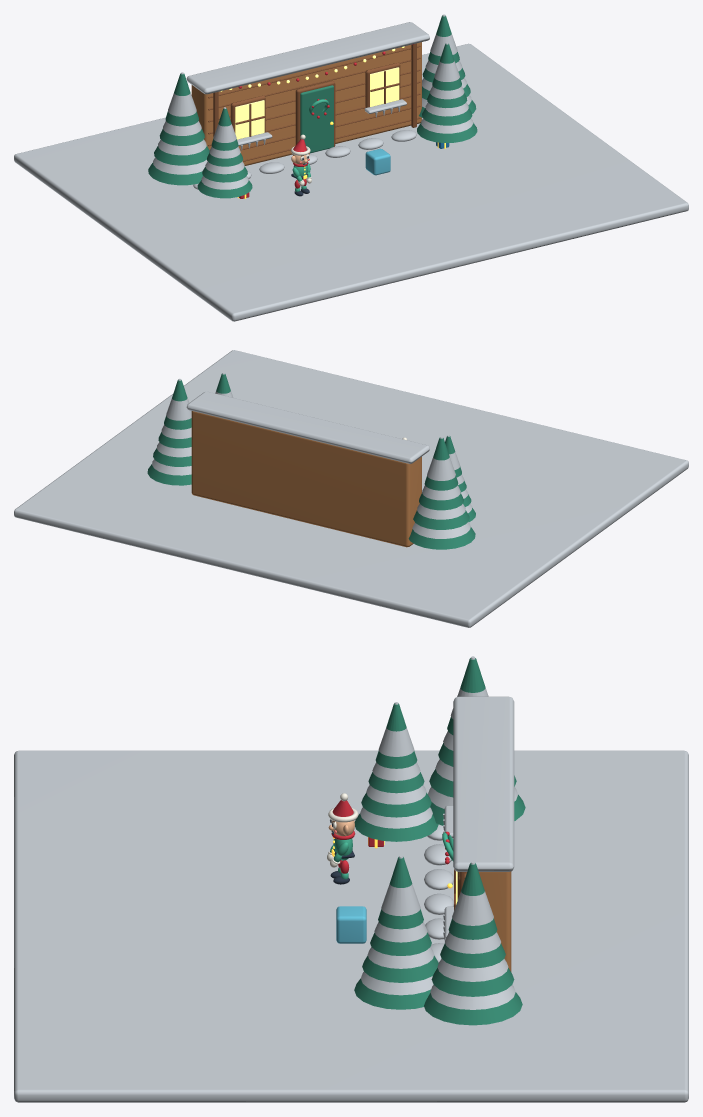
File: chapter-19.glb
3 views of the same model, one above another, from view 1: azimuth 30°, elevation 25°; view 2: azimuth 150°, elevation 25°; view 3: azimuth 270°, elevation 25° (orthographic). The views are drawn at different scales.
Parts seen in each view (by area): view 1: Schneeboden, Werkstatt, Schneegesims, Wichteltür, Warmes Fenster, Warmes Fenster.001, Tannenzweig.004, Tannenzweig.008, Tannenzweig.009, Türrahmen, Tannenzweig.011, Eiswürfel (+8 smaller); view 2: Schneeboden, Werkstatt, Schneegesims, Tannenzweig.008, Tannenzweig.009, Tannenzweig.011, Schnee.008, Schnee.011, Tannenzweig.015, Tannenzweig.012, Tannenzweig.010, Schnee.009 (+1 smaller); view 3: Schneeboden, Schneegesims, Werkstatt, Tannenzweig.012, Tannenzweig.013, Tannenzweig.015, Tannenzweig, Schnee.012, Eiswürfel, Tannenzweig.005, Tannenzweig.004, Schnee.015 (+16 smaller).
Boxes of the visible parts, <box> form: Schneeboden: <box>14,43,688,321</box>; Werkstatt: <box>191,42,421,165</box>; Schneegesims: <box>186,22,429,94</box>; Wichteltür: <box>300,85,333,153</box>; Warmes Fenster: <box>235,100,264,139</box>; Warmes Fenster.001: <box>370,67,399,106</box>; Tannenzweig.004: <box>417,122,477,142</box>; Tannenzweig.008: <box>148,163,202,185</box>; Tannenzweig.009: <box>154,146,209,165</box>; Türrahmen: <box>295,81,335,146</box>; Tannenzweig.011: <box>165,73,198,126</box>; Eiswürfel: <box>365,148,390,175</box>; Schneeboden: <box>14,350,688,627</box>; Werkstatt: <box>191,411,421,547</box>; Schneegesims: <box>186,391,429,463</box>; Tannenzweig.008: <box>408,527,475,549</box>; Tannenzweig.009: <box>413,510,469,529</box>; Tannenzweig.011: <box>424,437,458,490</box>; Schnee.008: <box>412,522,470,538</box>; Schnee.011: <box>427,436,455,480</box>; Tannenzweig.015: <box>164,380,191,429</box>; Tannenzweig.012: <box>147,464,191,485</box>; Tannenzweig.010: <box>419,493,463,510</box>; Schnee.009: <box>417,504,465,519</box>; Schneeboden: <box>14,750,688,1102</box>; Schneegesims: <box>453,696,514,871</box>; Werkstatt: <box>466,871,511,971</box>; Tannenzweig.012: <box>424,992,522,1025</box>; Tannenzweig.013: <box>431,968,514,996</box>; Tannenzweig.015: <box>448,863,497,939</box>; Tannenzweig: <box>354,813,438,841</box>; Schnee.012: <box>430,985,515,1009</box>; Eiswürfel: <box>336,906,366,943</box>; Tannenzweig.005: <box>362,955,438,982</box>; Tannenzweig.004: <box>354,978,430,1009</box>; Schnee.015: <box>452,861,493,925</box>.
Bounding box in the file's own units: 18 × 4.39 × 15.
